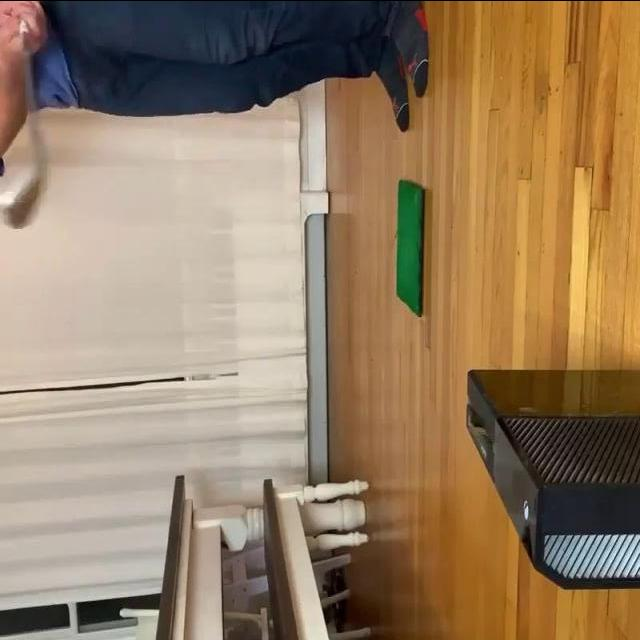ClubHandle: (0, 26, 42, 227)
ClubHead: (0, 169, 42, 227)
